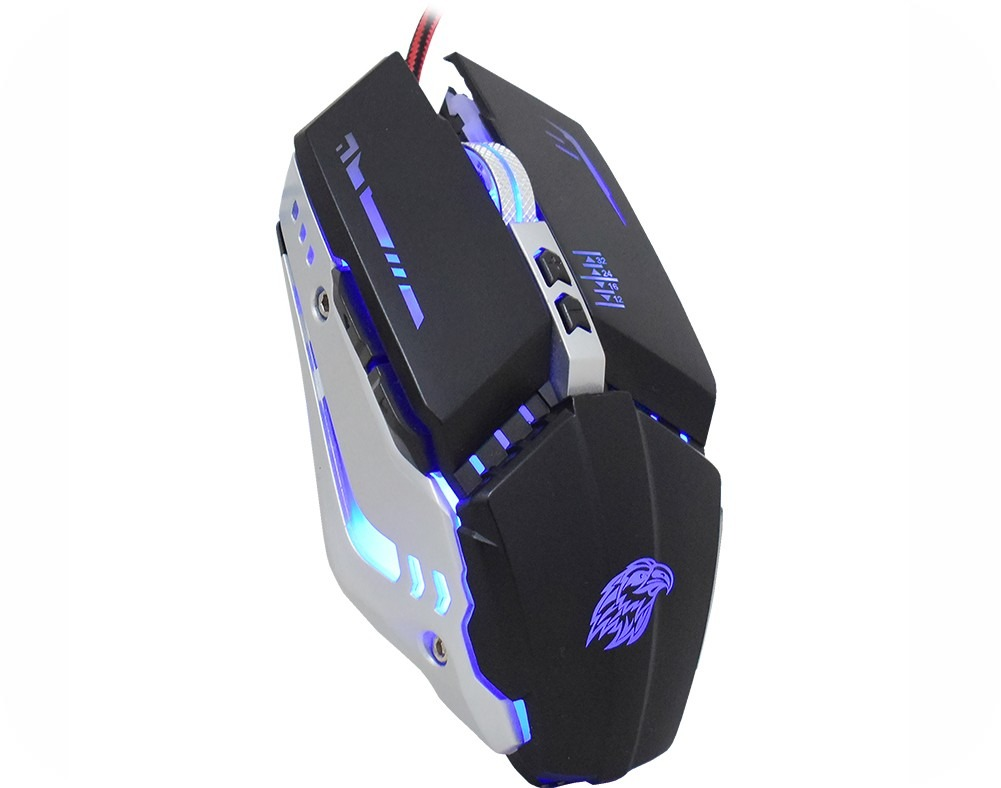mouse: (257, 33, 739, 786)
